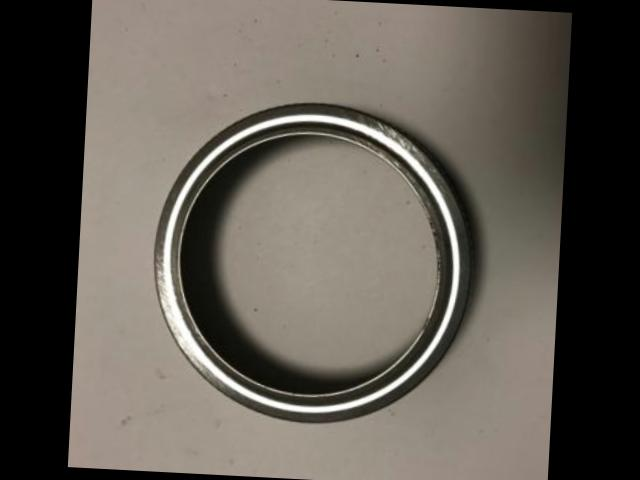metal: (152, 105, 470, 423)
